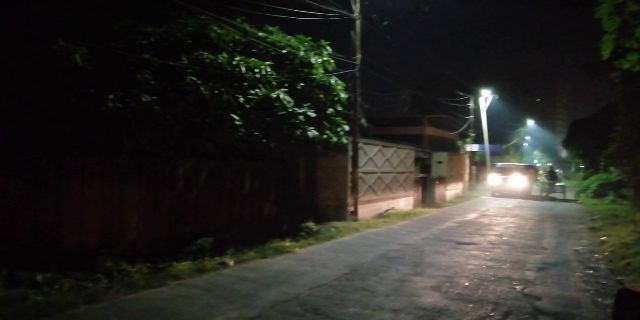Car: (486, 157, 535, 201)
